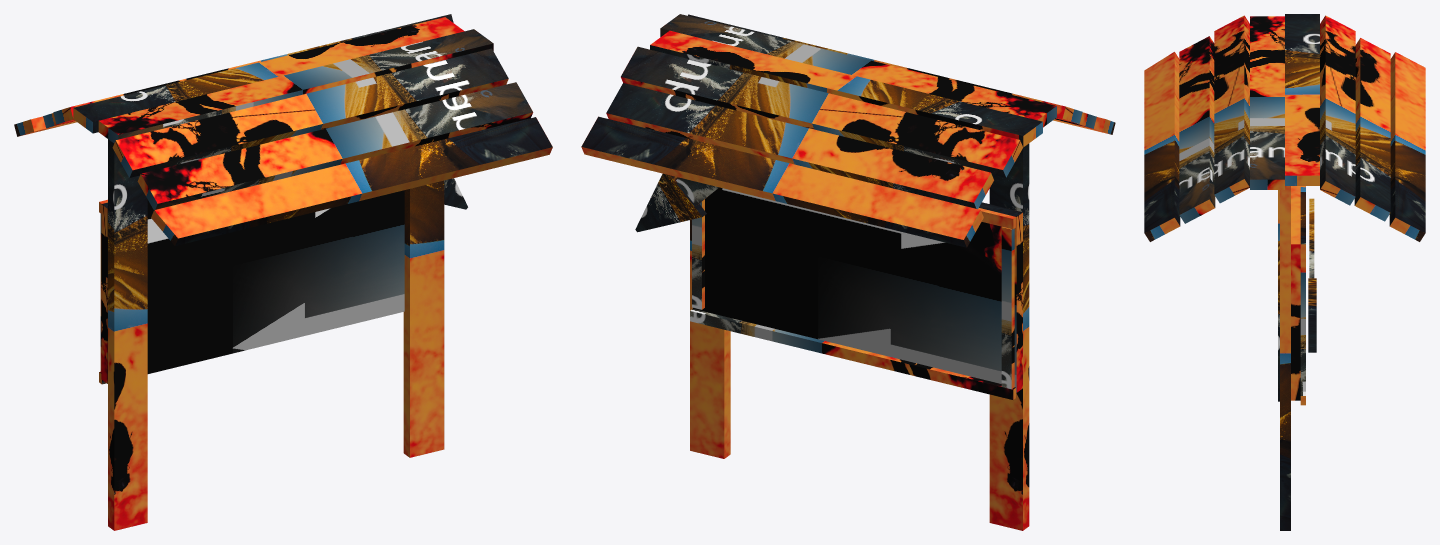
File: Sign_Crater_GEO.fbx
3 views of the same model, side by side, from view 1: azimuth 30°, elevation 25°; view 2: azimuth 150°, elevation 25°; view 3: azimuth 270°, elevation 25° (orthographic). The views are drawn at different scales.
Parts seen in each view (by area): view 1: sign, woodBoard_ (×2), woodBoard_4 (×2), woodBoard_6, woodBoard_5, woodBoard_2, woodBoard_3; view 2: sign, woodBoard_ (×2), woodBoard_4 (×2), woodBoard_6, woodBoard_5, woodBoard_2, woodBoard_3, woodBoard_1, woodBoard_9, woodBoard_11, woodBoard_8; view 3: woodBoard_6 (×2), woodBoard_4 (×2), woodBoard_5 (×2), woodBoard_ (×2), woodBoard_3, sign, woodBoard_8, woodBoard_11, woodBoard_10, woodBoard_2, woodBoard_7.
Part boxes in pixels (x1=…): sign: x1=101, y1=190, x2=404, y2=383; woodBoard_ (×2): x1=73, y1=17, x2=493, y2=143; woodBoard_4 (×2): x1=53, y1=14, x2=508, y2=177; woodBoard_6: x1=151, y1=117, x2=552, y2=245; woodBoard_5: x1=137, y1=82, x2=533, y2=209; woodBoard_2: x1=108, y1=139, x2=147, y2=530; woodBoard_3: x1=403, y1=180, x2=444, y2=457; sign: x1=693, y1=187, x2=1022, y2=392; woodBoard_ (×2): x1=650, y1=14, x2=1056, y2=147; woodBoard_4 (×2): x1=621, y1=14, x2=1082, y2=177; woodBoard_6: x1=581, y1=116, x2=983, y2=247; woodBoard_5: x1=606, y1=83, x2=993, y2=208; woodBoard_2: x1=989, y1=143, x2=1029, y2=530; woodBoard_3: x1=690, y1=219, x2=730, y2=458; woodBoard_1: x1=690, y1=309, x2=1015, y2=399; woodBoard_9: x1=1001, y1=227, x2=1014, y2=389; woodBoard_11: x1=635, y1=173, x2=706, y2=232; woodBoard_8: x1=692, y1=199, x2=704, y2=309; woodBoard_6 (×2): x1=1144, y1=52, x2=1425, y2=241; woodBoard_4 (×2): x1=1214, y1=15, x2=1355, y2=205; woodBoard_5 (×2): x1=1179, y1=36, x2=1390, y2=223; woodBoard_ (×2): x1=1250, y1=14, x2=1319, y2=189; woodBoard_3: x1=1280, y1=186, x2=1290, y2=530; sign: x1=1291, y1=186, x2=1300, y2=400; woodBoard_8: x1=1300, y1=253, x2=1305, y2=391; woodBoard_11: x1=1308, y1=278, x2=1316, y2=352; woodBoard_10: x1=1309, y1=198, x2=1314, y2=278; woodBoard_2: x1=1278, y1=190, x2=1279, y2=401; woodBoard_7: x1=1300, y1=186, x2=1305, y2=253.
Bounding box in the file's own units: 586 × 591 × 412.
